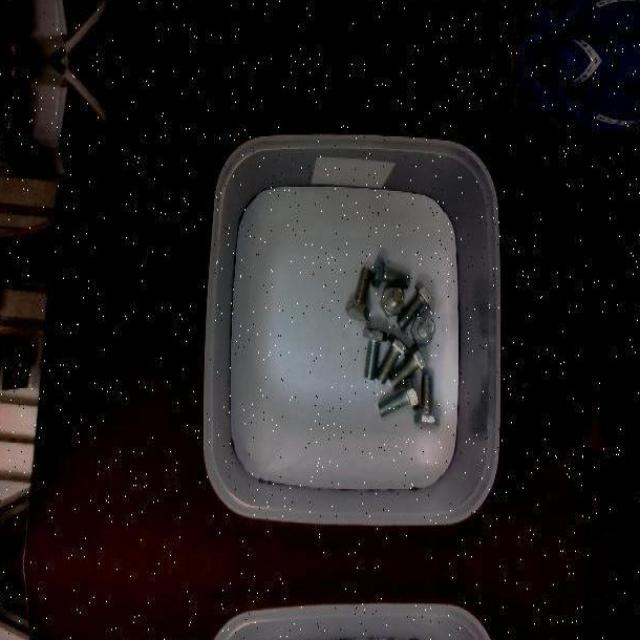screw: (396, 279, 436, 330), (377, 331, 409, 384), (378, 377, 420, 417), (389, 343, 427, 387), (414, 371, 439, 426), (362, 325, 387, 378), (346, 264, 370, 319), (370, 254, 410, 287), (381, 284, 405, 316), (412, 315, 436, 344)
